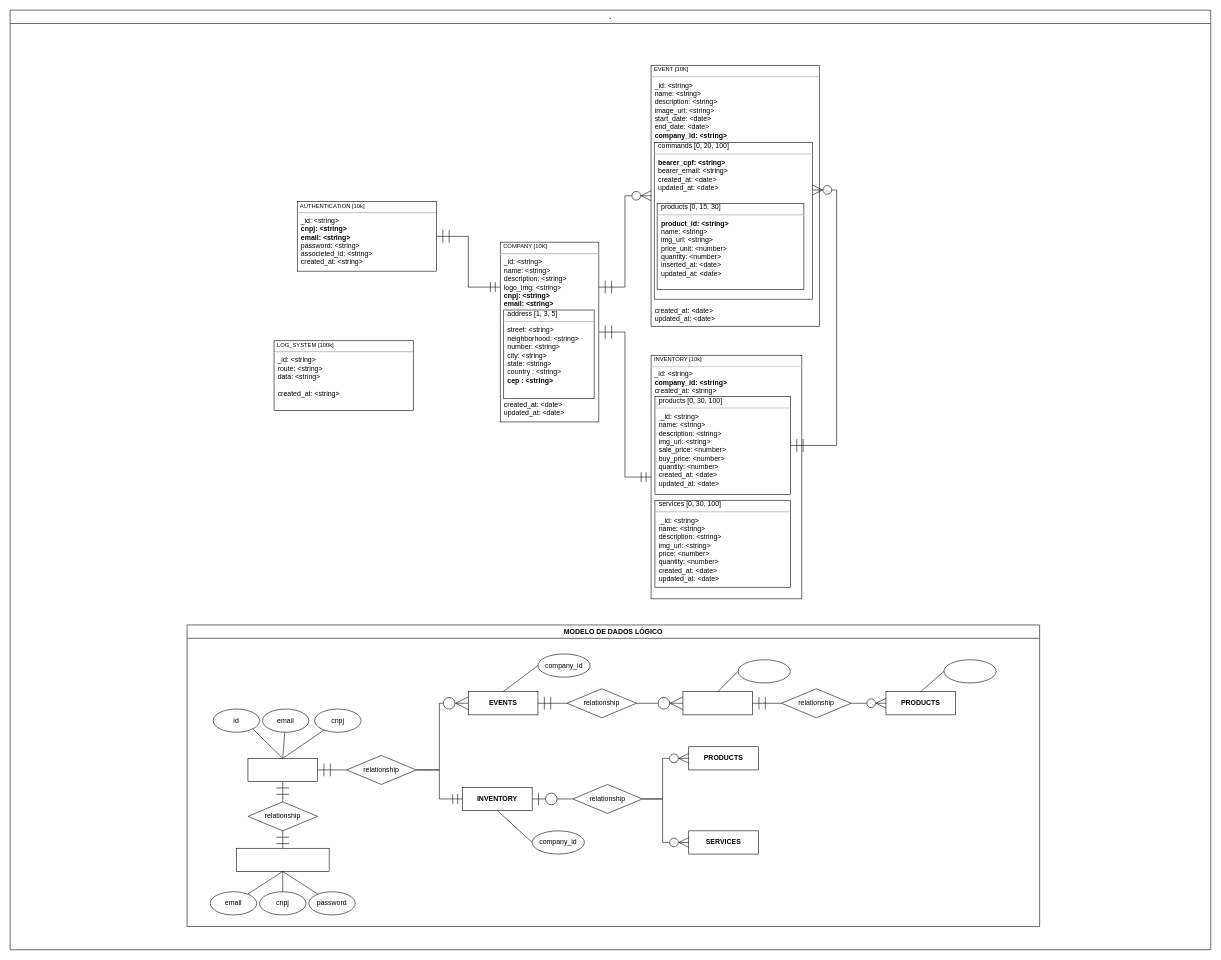
Image size: 1221x960. Some labels were removed from this diagram. Here are the shapes that lost their labels. From the top down, the centre of each, then its label:
At [763,671]: "bearer_cpf".
At [969,671]: "product_id".
At [717,703]: "COMMANDS".
At [282,770]: "COMPANY".
At [282,859]: "AUTHENTICATION".
